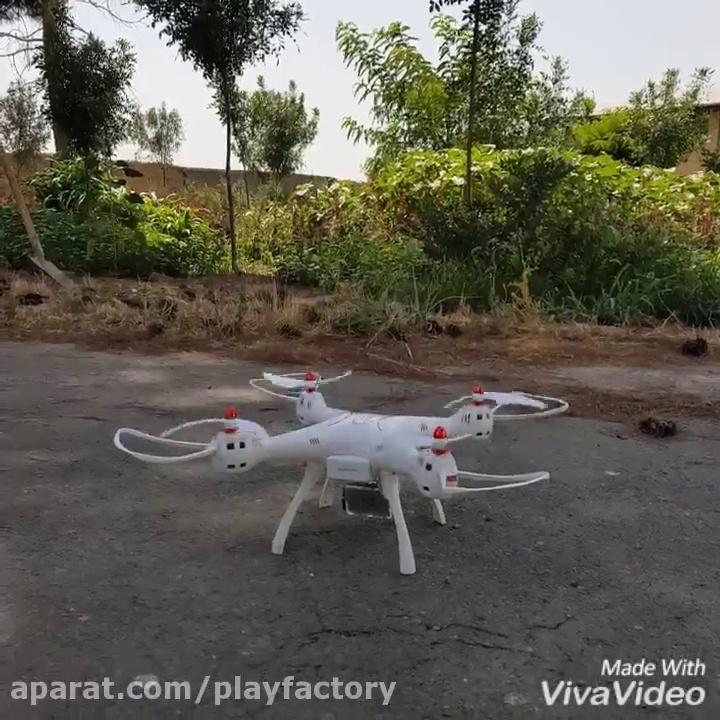drone: (116, 368, 566, 574)
